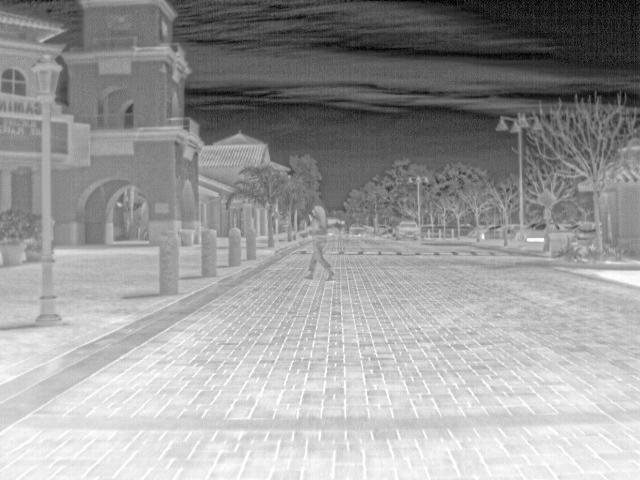car: (554, 220, 594, 234), (392, 221, 420, 240), (479, 222, 503, 238), (527, 221, 544, 238), (349, 223, 366, 237), (506, 221, 519, 237)
person: (305, 204, 332, 282)
